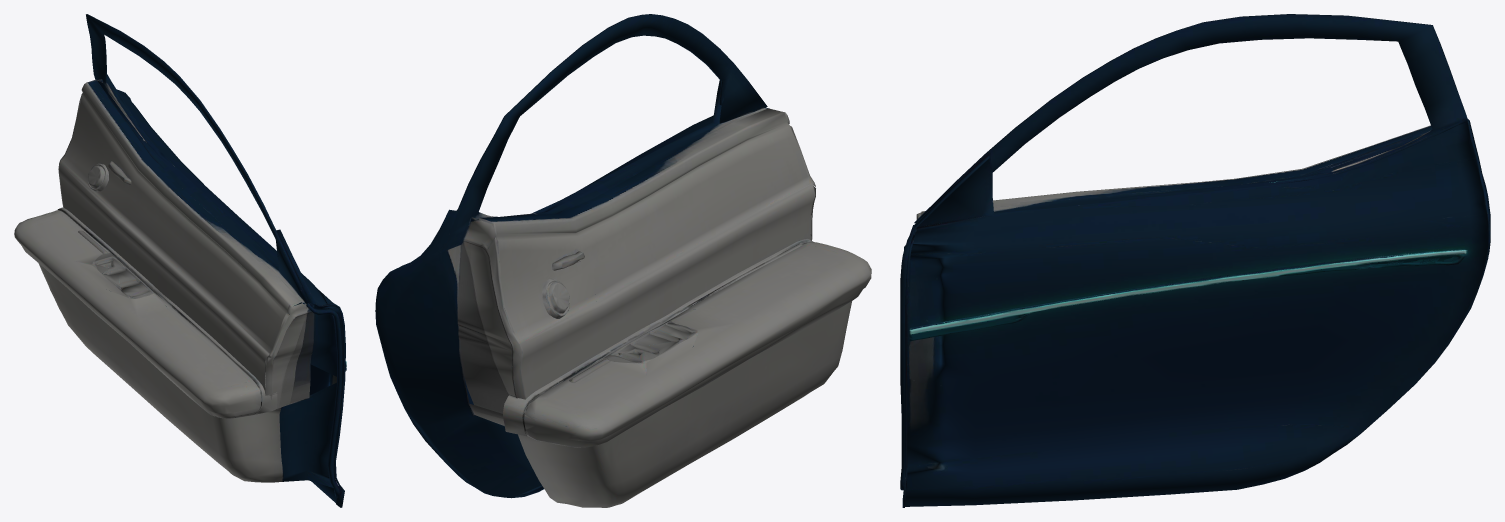
The model's file is original_glb.glb.
3 renders of one model, left to right at view 1: azimuth 30°, elevation 25°; view 2: azimuth 150°, elevation 25°; view 3: azimuth 270°, elevation 25°, orthographic. The views are drawn at different scales.
Parts seen in each view (by area): view 1: right door; view 2: right door; view 3: right door.
Boxes of the visible parts, box(x1,y1,x2,y2) form: right door: box(14, 14, 346, 507); right door: box(375, 14, 871, 507); right door: box(900, 14, 1490, 507).
Size of the model in its own units: 0.3535 by 0.8652 by 0.998.
Materials: 1 (1 with a texture image).
